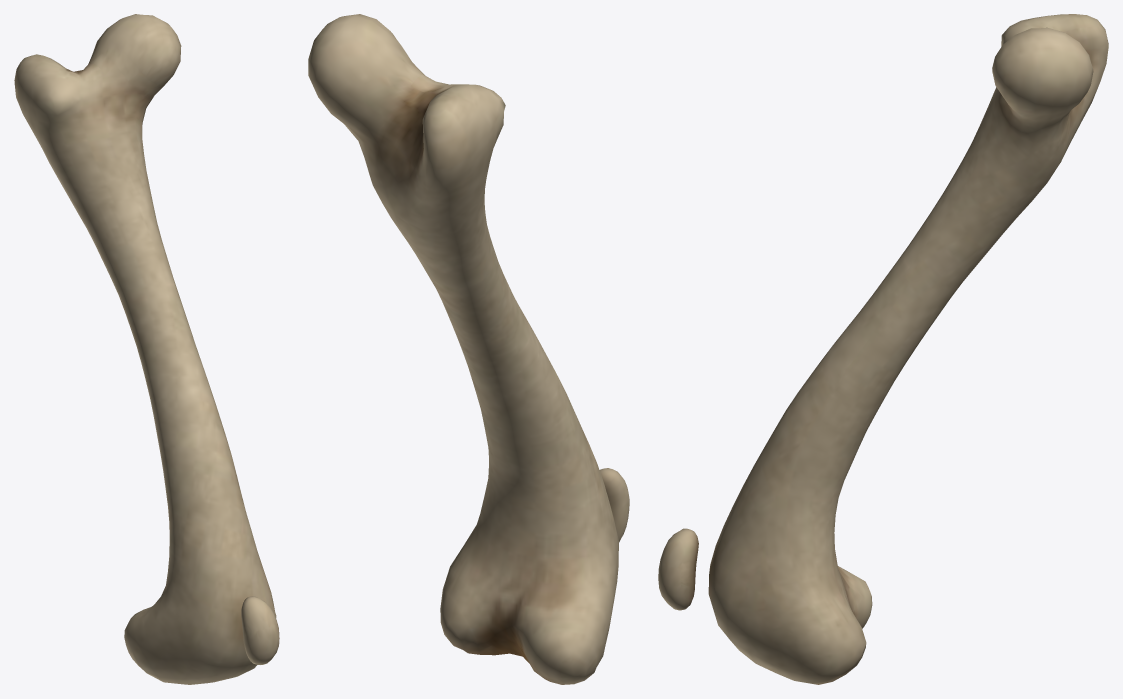
File: Femur.glb
3 views of the same model, side by side, from view 1: azimuth 30°, elevation 25°; view 2: azimuth 150°, elevation 25°; view 3: azimuth 270°, elevation 25° (orthographic). The views are drawn at different scales.
Parts seen in each view (by area): view 1: polySurface8; view 2: polySurface8; view 3: polySurface8.
Boxes of the visible parts, left/top/right/bottom form: polySurface8: left=14, top=14, right=279, bottom=684; polySurface8: left=308, top=14, right=629, bottom=684; polySurface8: left=658, top=14, right=1108, bottom=684.
Bounding box in the file's own units: 31.14 × 121 × 74.76.
1 material, 1 textured.
